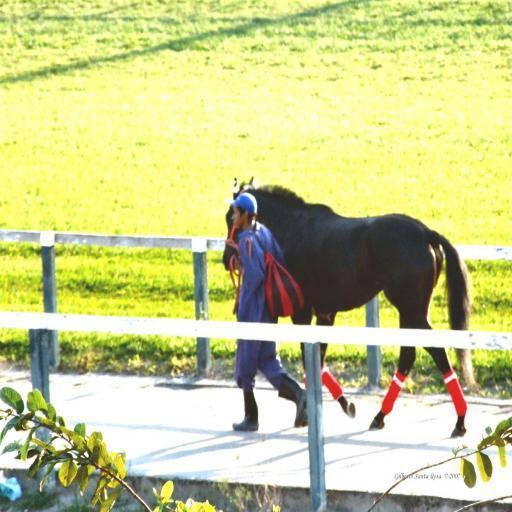horse: (220, 174, 478, 439)
